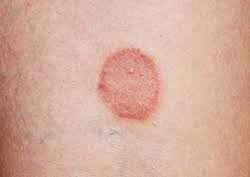Ringworm: (92, 40, 165, 126)
